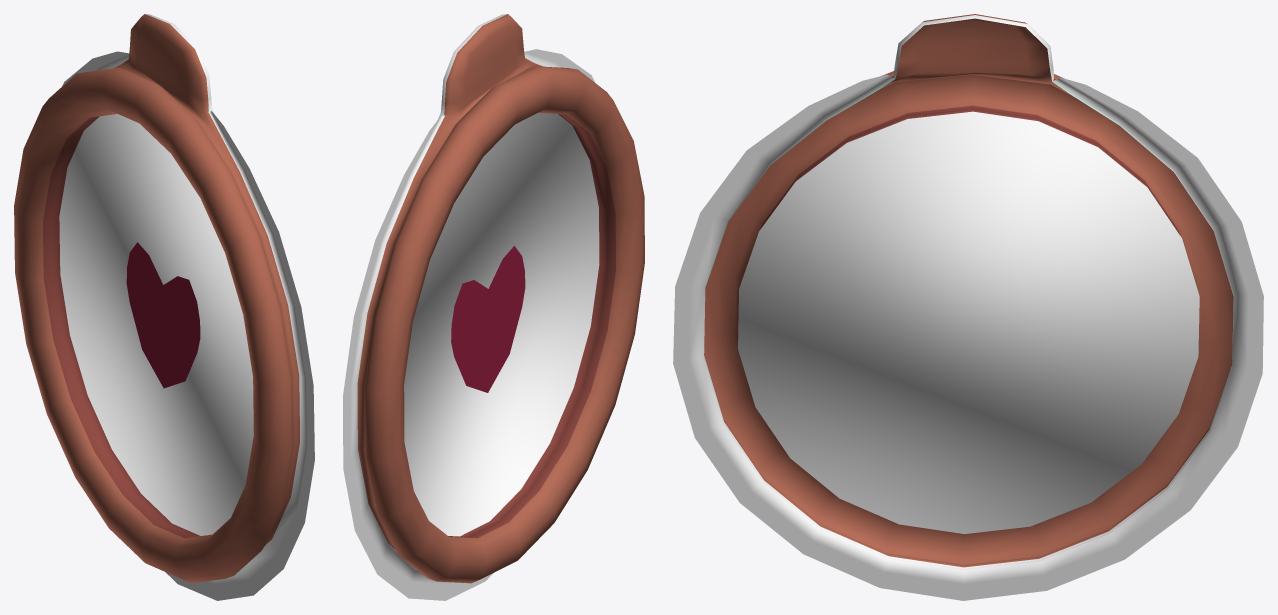
File: Wallslot_03_CC.glb
The picture shows the model from 3 angles, left to right: view 1: azimuth 30°, elevation 25°; view 2: azimuth 150°, elevation 25°; view 3: azimuth 270°, elevation 25°; orthographic projection. The views are drawn at different scales.
Parts seen in each view (by area): view 1: Wallslot_03_CC; view 2: Wallslot_03_CC; view 3: Wallslot_03_CC.
Boxes of the visible parts, x1,y1,x2,y2 form: Wallslot_03_CC: (14,14,314,600); Wallslot_03_CC: (343,14,644,600); Wallslot_03_CC: (673,14,1263,600).
Bounding box in the file's own units: 0.0176 × 0.2241 × 0.2052.
1 material, 1 textured.
